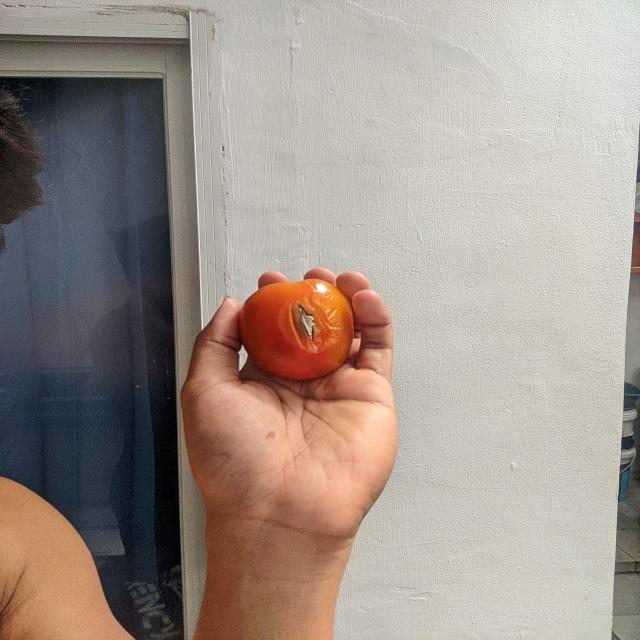Rotten Tomato: (238, 278, 358, 384)
